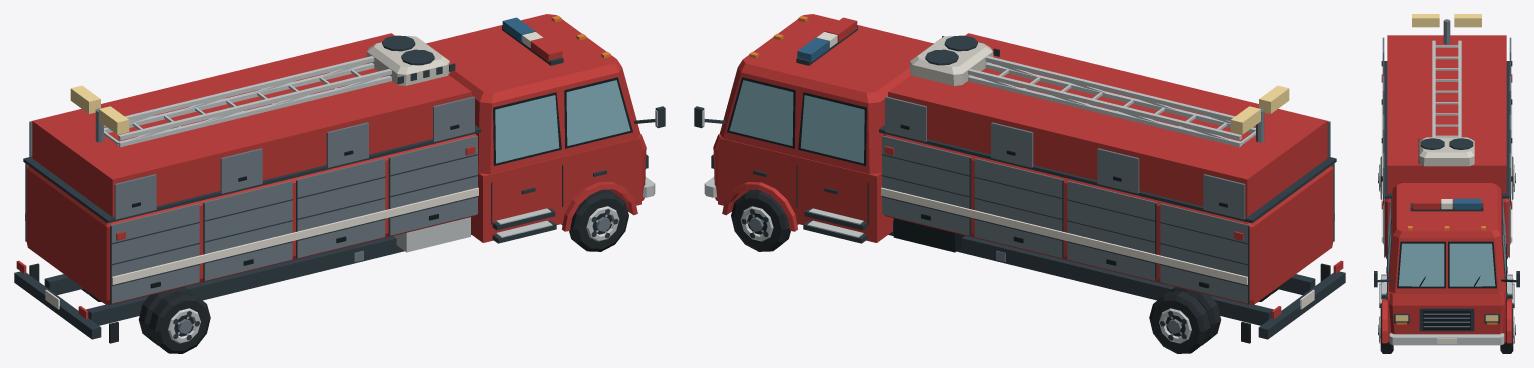
Rendered from b15_heavy_rescue_squad.glb.
3 renders of one model, left to right at view 1: azimuth 30°, elevation 25°; view 2: azimuth 150°, elevation 25°; view 3: azimuth 270°, elevation 25°, orthographic. The views are drawn at different scales.
Parts seen in each view (by area): view 1: b15_heavy_rescue_squad; view 2: b15_heavy_rescue_squad; view 3: b15_heavy_rescue_squad.
Part boxes in pixels (x1,y1,x2,y2): b15_heavy_rescue_squad: (14, 14, 665, 353); b15_heavy_rescue_squad: (694, 14, 1345, 353); b15_heavy_rescue_squad: (1374, 14, 1519, 353).
Size of the model in its own units: 9.73 by 3.73 by 2.91.
